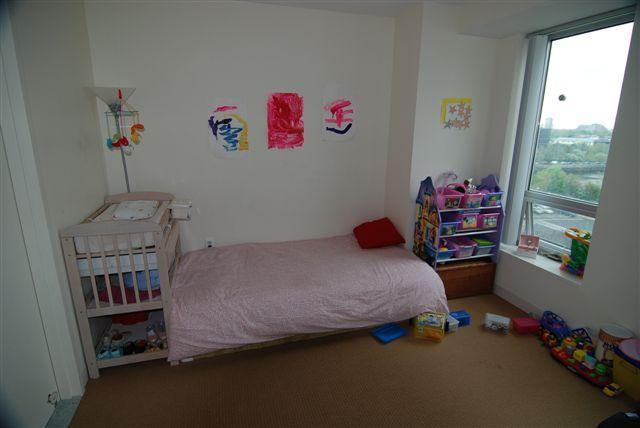Cama: (175, 234, 448, 340)
Otro Obstaculo: (535, 308, 623, 393), (486, 303, 541, 339), (414, 309, 450, 349), (374, 321, 409, 348)
Ventana: (509, 9, 634, 280)
